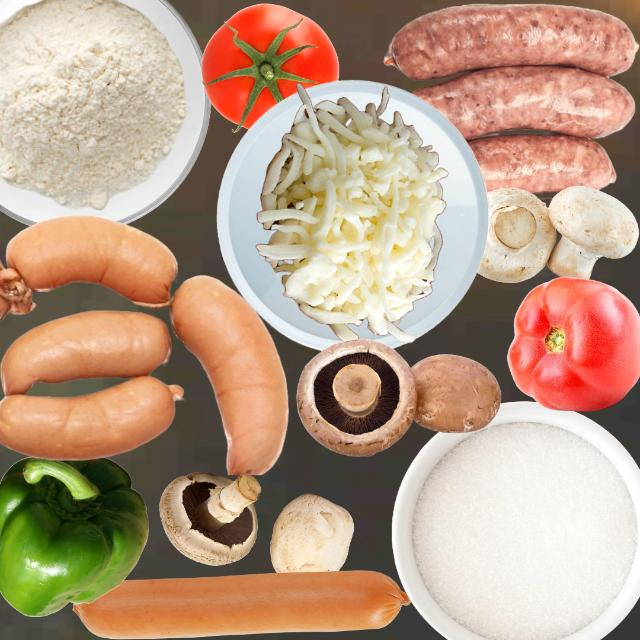Coffee: (409, 419, 638, 638)
Flour: (0, 0, 186, 209)
